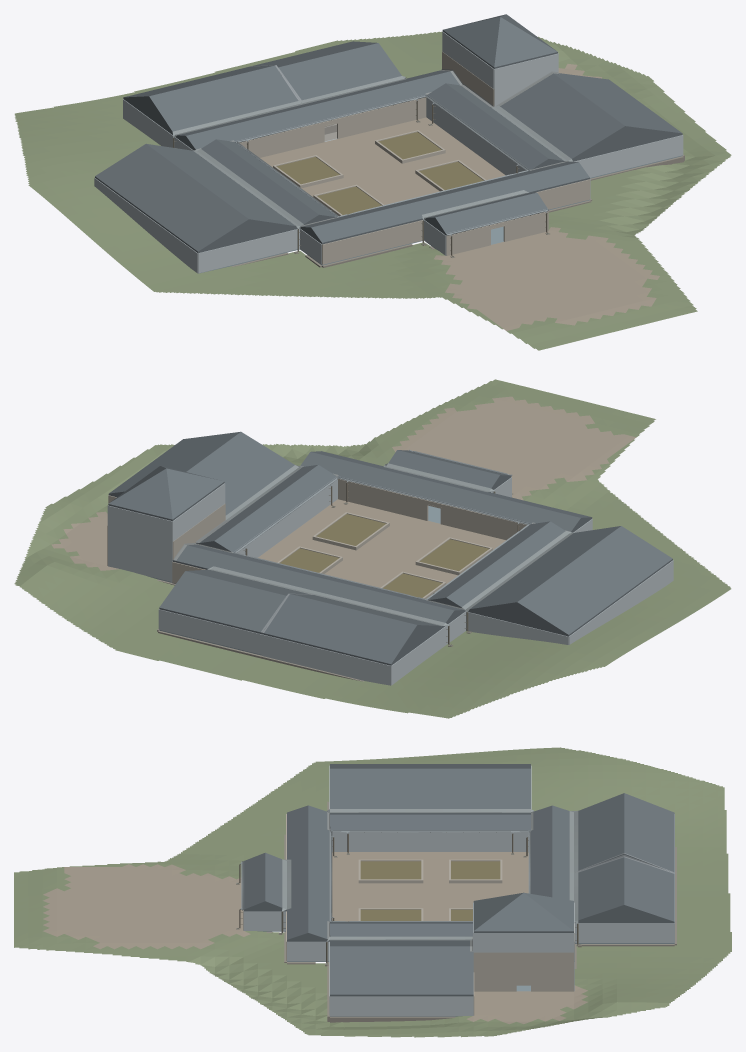
The model's file is monastery-with-eave-gutters.glb.
3 views of the same model, one above another, from view 1: azimuth 30°, elevation 25°; view 2: azimuth 150°, elevation 25°; view 3: azimuth 270°, elevation 25° (orthographic). The views are drawn at different scales.
Parts seen in each view (by area): view 1: WLD-10 saved ground, dormitory roof west, refectory roof west, archive roof south, south-cloister roof south, north-cloister roof south, vestry roof south, dormitory roof east, east-cloister roof west, refectory roof east, west-cloister roof west, Monastery shared gatehouse and south cloister wall inner gat (+32 smaller); view 2: WLD-10 saved ground, dormitory roof west, archive roof north, south-cloister roof north, vestry roof north, north-cloister roof north, refectory roof west, dormitory roof east, east-cloister roof west, Wall archive N, Wall tower-base N, west-cloister roof west (+33 smaller); view 3: WLD-10 saved ground, dormitory roof east, refectory roof east, Wall west E, west-cloister roof east, archive roof north, archive roof south, Wall refectory E, south-cloister roof north, south-cloister roof south, vestry roof north, vestry roof south (+27 smaller).
Part boxes in pixels (x1,y1,x2,y2): WLD-10 saved ground: [14, 31, 731, 350]; dormitory roof west: [95, 144, 248, 252]; refectory roof west: [500, 73, 625, 159]; archive roof south: [149, 65, 297, 132]; south-cloister roof south: [311, 162, 589, 244]; north-cloister roof south: [186, 71, 459, 149]; vestry roof south: [278, 43, 401, 100]; dormitory roof east: [146, 143, 296, 227]; east-cloister roof west: [427, 83, 548, 170]; refectory roof east: [554, 73, 682, 134]; west-cloister roof west: [201, 139, 319, 225]; Monastery shared gatehouse and south cloister wall inner gat: [322, 220, 422, 264]; WLD-10 saved ground: [14, 379, 731, 718]; dormitory roof west: [517, 526, 672, 636]; archive roof north: [262, 594, 417, 665]; south-cloister roof north: [300, 452, 580, 532]; vestry roof north: [159, 571, 286, 633]; north-cloister roof north: [172, 545, 454, 626]; refectory roof west: [186, 432, 294, 515]; dormitory roof east: [469, 526, 620, 610]; east-cloister roof west: [214, 465, 337, 552]; Wall archive N: [262, 634, 391, 685]; Wall tower-base N: [108, 526, 172, 581]; west-cloister roof west: [446, 521, 565, 608]; WLD-10 saved ground: [14, 747, 731, 1037]; dormitory roof east: [330, 768, 530, 808]; refectory roof east: [330, 946, 473, 995]; Wall west E: [332, 832, 528, 851]; west-cloister roof east: [330, 814, 530, 832]; archive roof north: [624, 793, 674, 872]; archive roof south: [578, 793, 624, 870]; Wall refectory E: [330, 996, 473, 1015]; south-cloister roof north: [308, 805, 329, 941]; south-cloister roof south: [287, 805, 308, 941]; vestry roof north: [624, 857, 674, 922]; vestry roof south: [578, 857, 624, 921].
Size of the model in its own units: 92 by 16 by 100.
